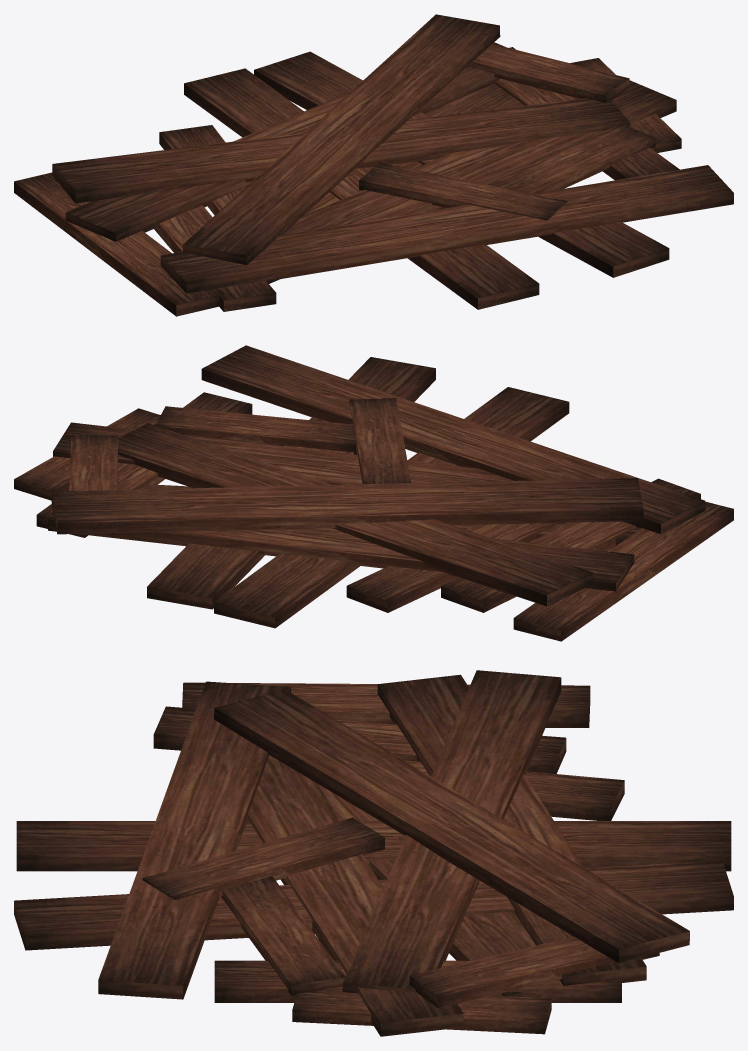
Rendered from WoodPlank.fbx.
The picture shows the model from 3 angles, top to bottom: view 1: azimuth 30°, elevation 25°; view 2: azimuth 150°, elevation 25°; view 3: azimuth 270°, elevation 25°; orthographic projection. The views are drawn at different scales.
Visible parts, largest first — view 1: WoodPlank_A_7; view 2: WoodPlank_A_7; view 3: WoodPlank_A_7.
Boxes of the visible parts, x1,y1,x2,y2 form: WoodPlank_A_7: (14, 14, 733, 316); WoodPlank_A_7: (14, 345, 733, 641); WoodPlank_A_7: (14, 670, 733, 1036).
Size of the model in its own units: 4.7 by 0.3068 by 4.15.
